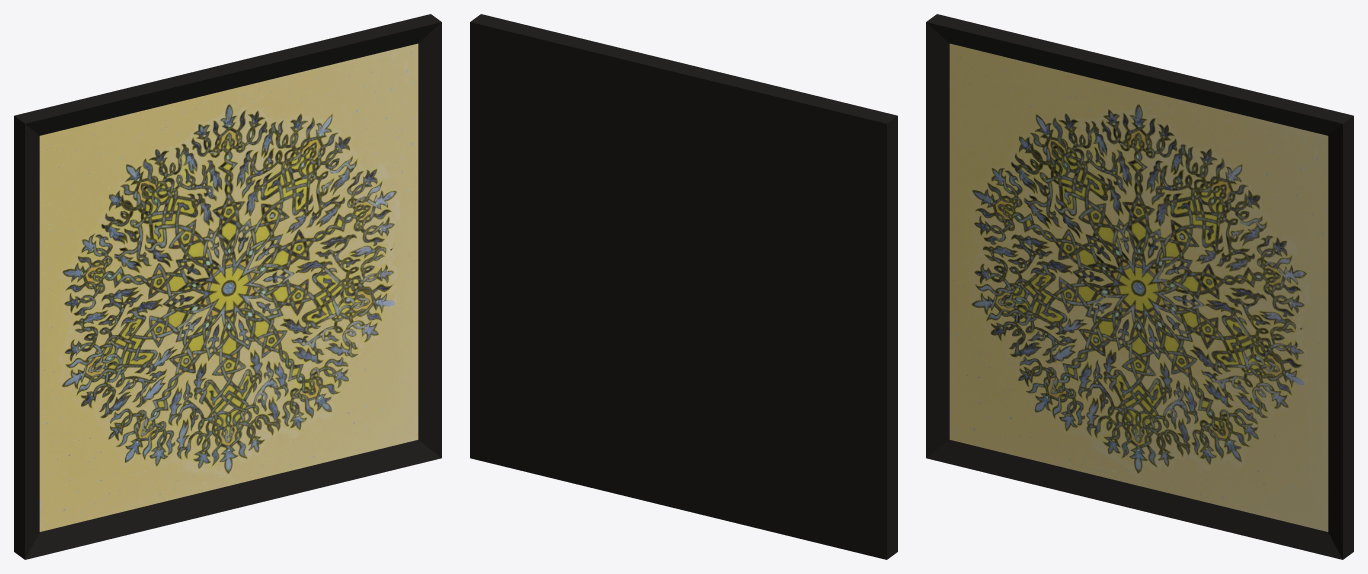
Rendered from slipper-orchids-orchids30-manipura-yellow-a1-stained-black-v2.glb.
3 views of the same model, side by side, from view 1: azimuth 30°, elevation 25°; view 2: azimuth 150°, elevation 25°; view 3: azimuth 330°, elevation 25° (orthographic).
Visible parts, largest first — view 1: FramedPrint; view 2: FramedPrint; view 3: FramedPrint.
Boxes of the visible parts, x1=… form: FramedPrint: x1=14, y1=14, x2=441, y2=559; FramedPrint: x1=470, y1=14, x2=897, y2=559; FramedPrint: x1=926, y1=14, x2=1353, y2=559.
Size of the model in its own units: 0.655 by 0.655 by 0.03.
Materials: 2 (1 with a texture image).
